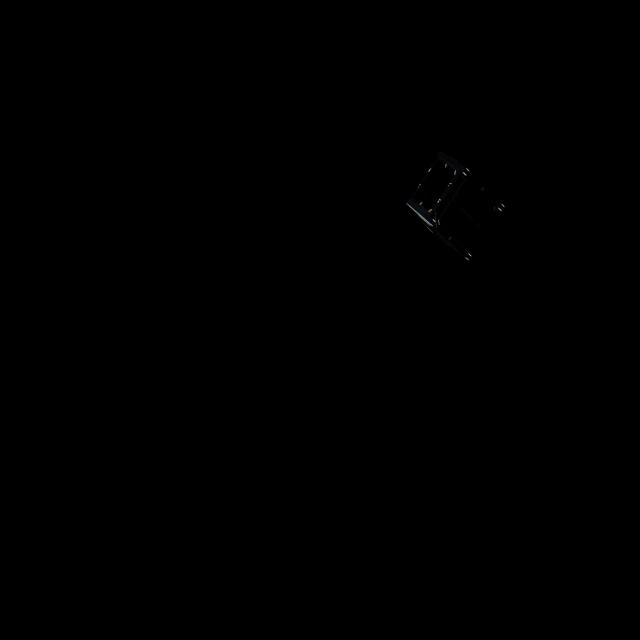satellite: (400, 152, 512, 267)
